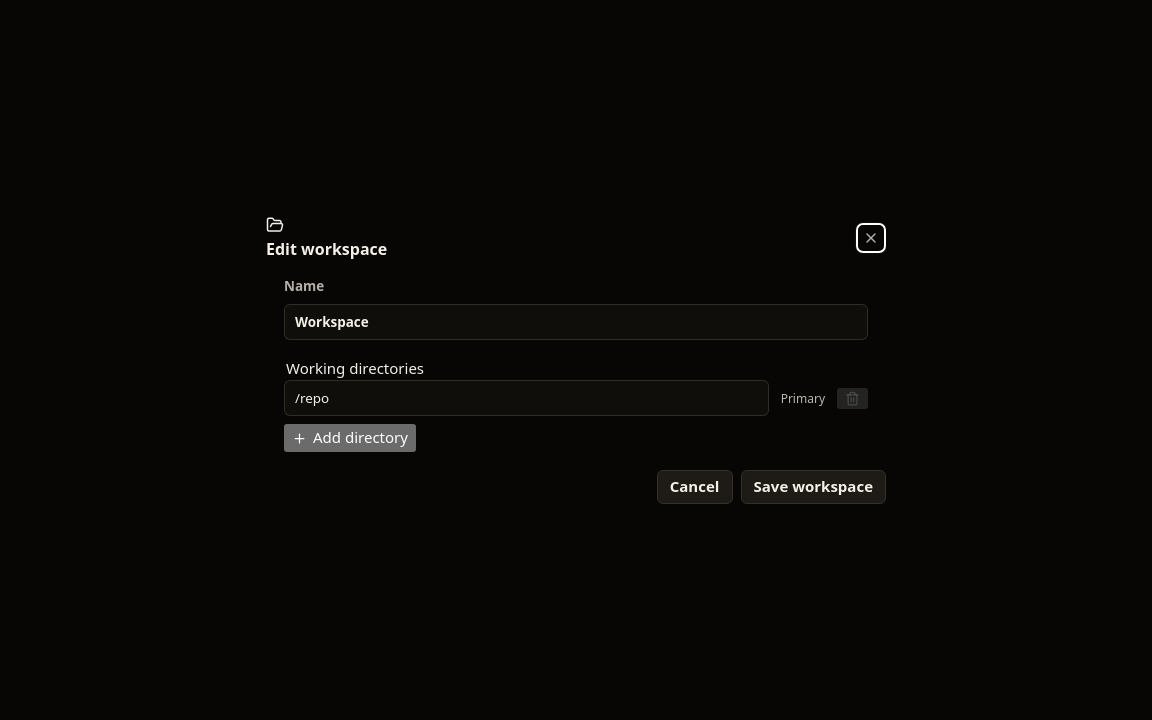
Test: WorkspaceEditorDialog › retains a modal focus target while every save control is disabled
Click the button "Save workspace". click: (813, 487)
box: [740,470,886,504]
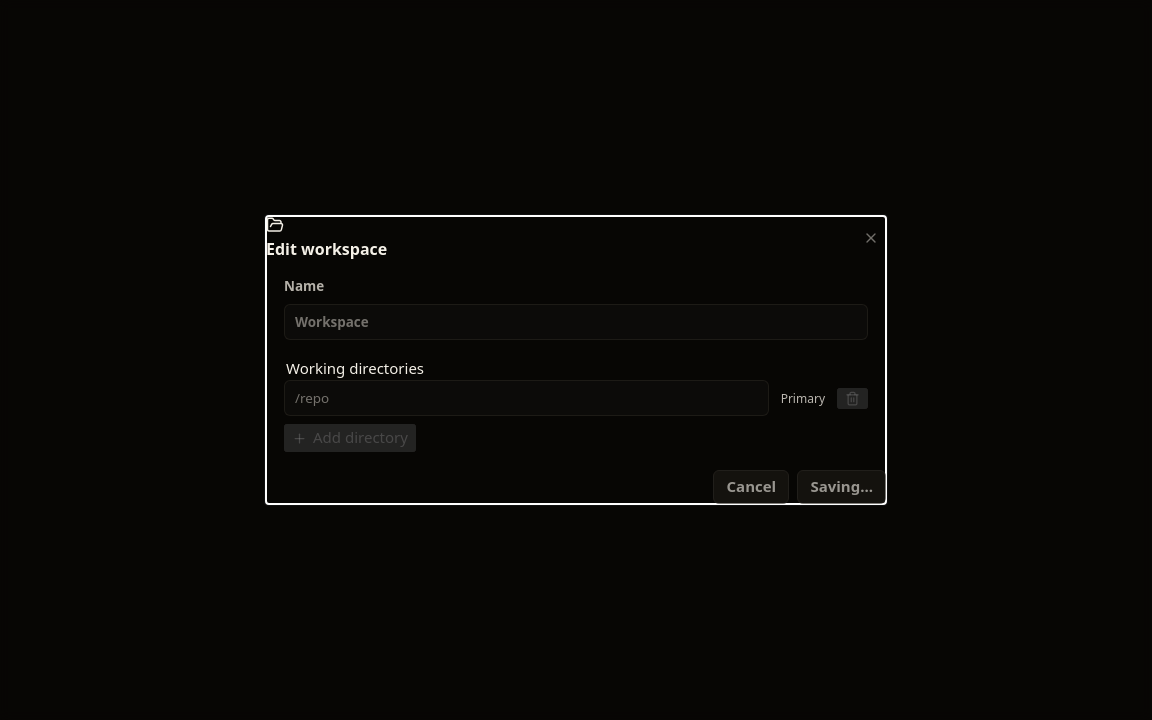
Press Tab in the dialog, box [266,216,886,504]
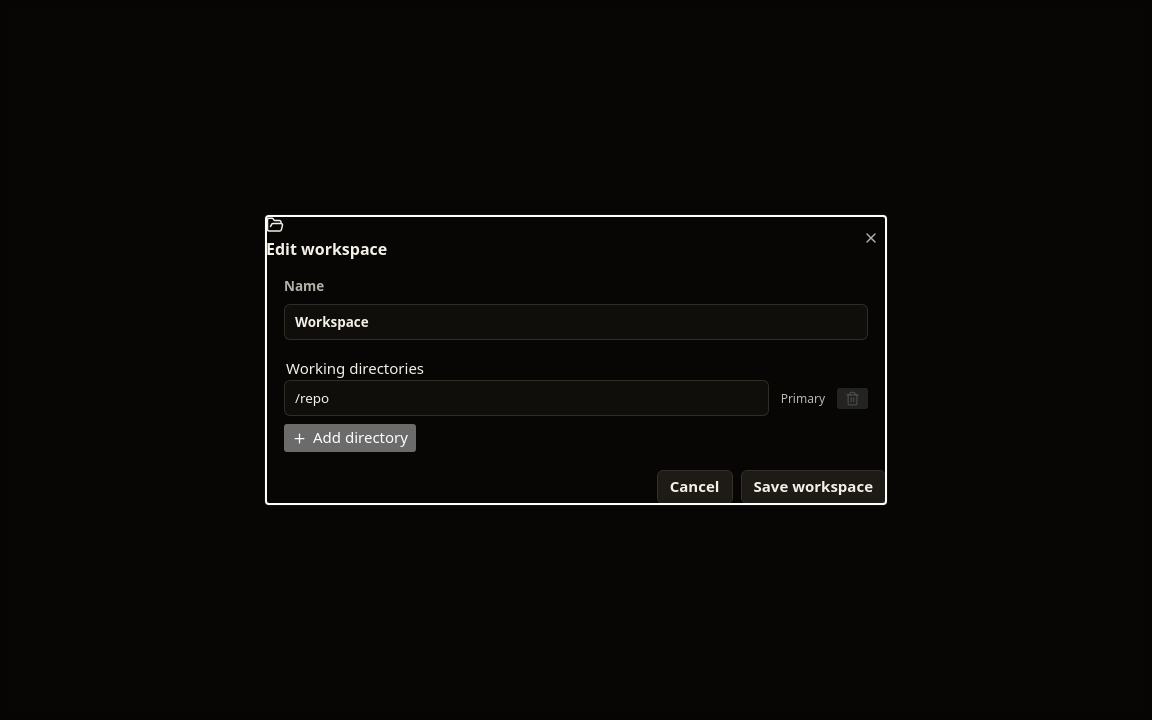
Expected: the button "Save workspace" is shown, [740,470,886,504]
